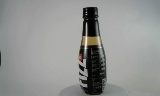appyfizz: (72, 6, 100, 95)
